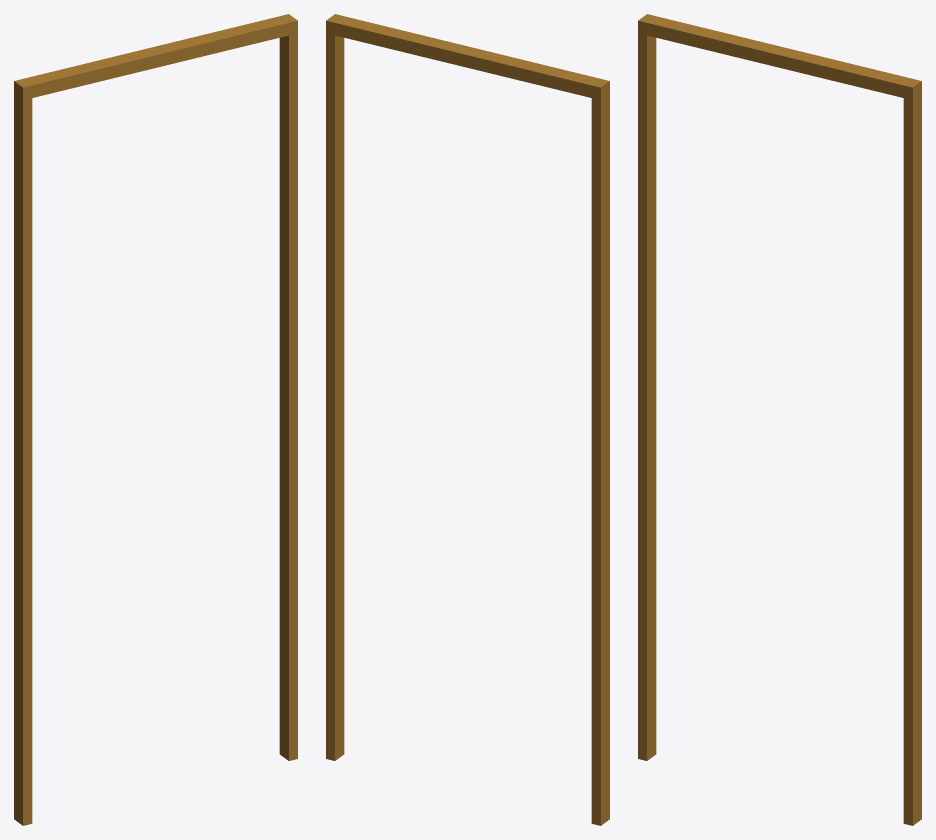
File: Door_Frame.fbx
The picture shows the model from 3 angles, left to right: view 1: azimuth 30°, elevation 25°; view 2: azimuth 150°, elevation 25°; view 3: azimuth 330°, elevation 25°; orthographic projection.
Visible parts, largest first — view 1: pCube1; view 2: pCube1; view 3: pCube1.
Boxes of the visible parts, x1,y1,x2,y2 form: pCube1: (14,14,297,825); pCube1: (326,14,609,825); pCube1: (638,14,921,825).
Size of the model in its own units: 81.33 by 209 by 4.67.
Materials: 1 (1 with a texture image).
